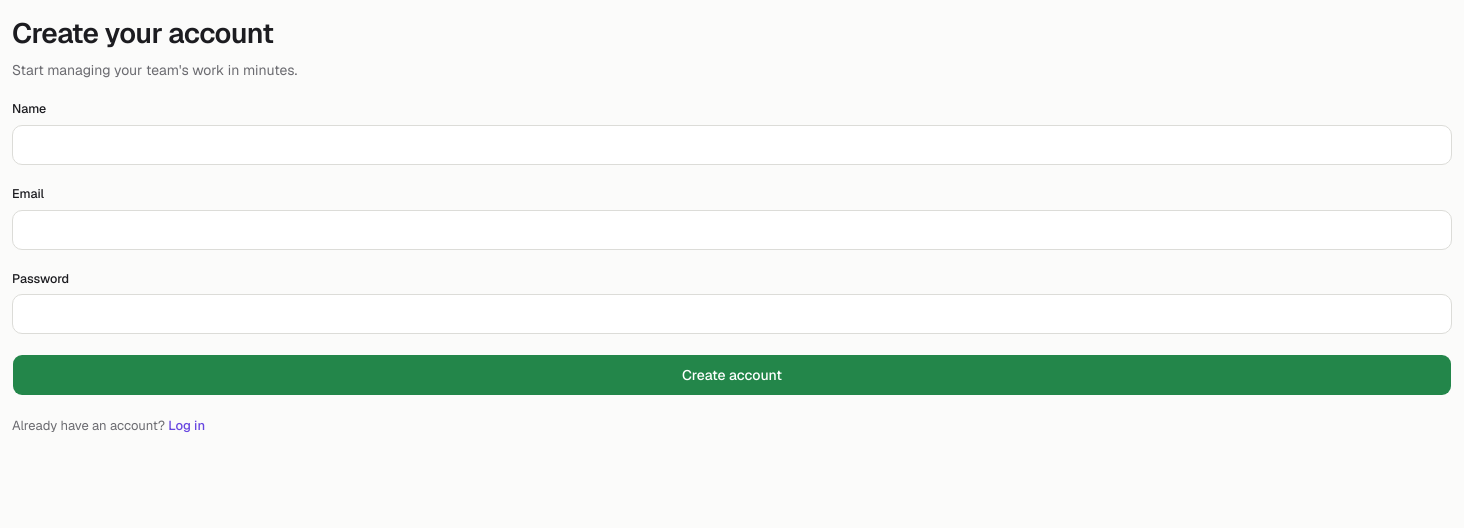
AuthForm › validates register fields before submitting
In the field labelled "Email": coordinates (732, 230) [12, 210, 1452, 250], type "not-an-email"
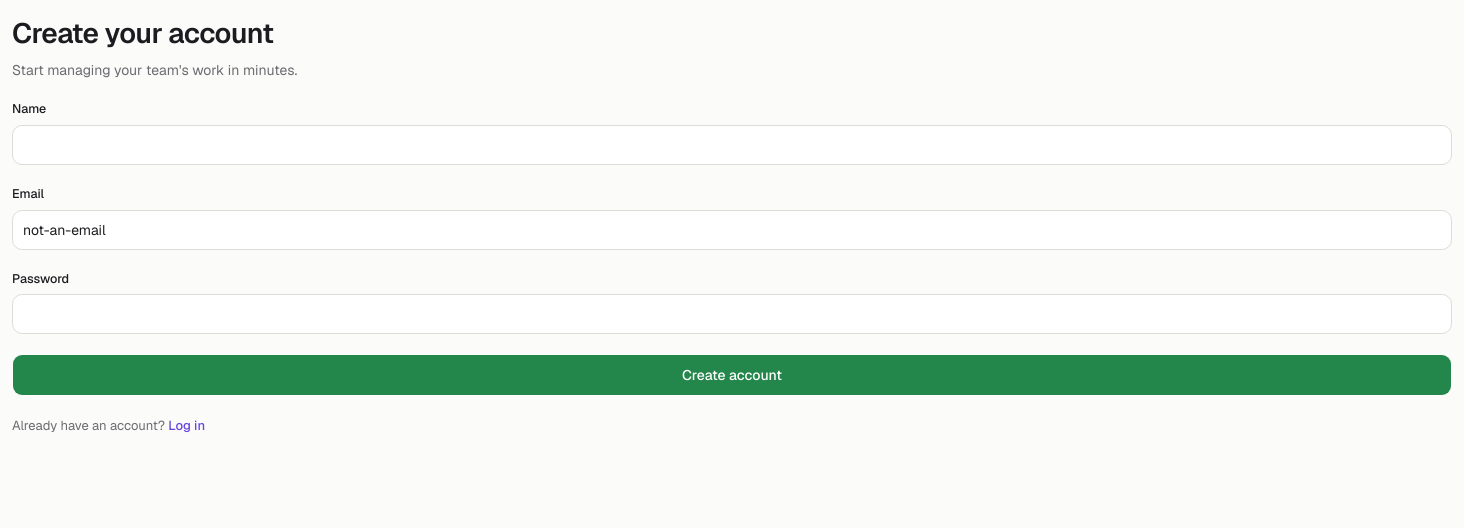
In the password field labelled "Password": coordinates (732, 314) [12, 294, 1452, 334], type "short"
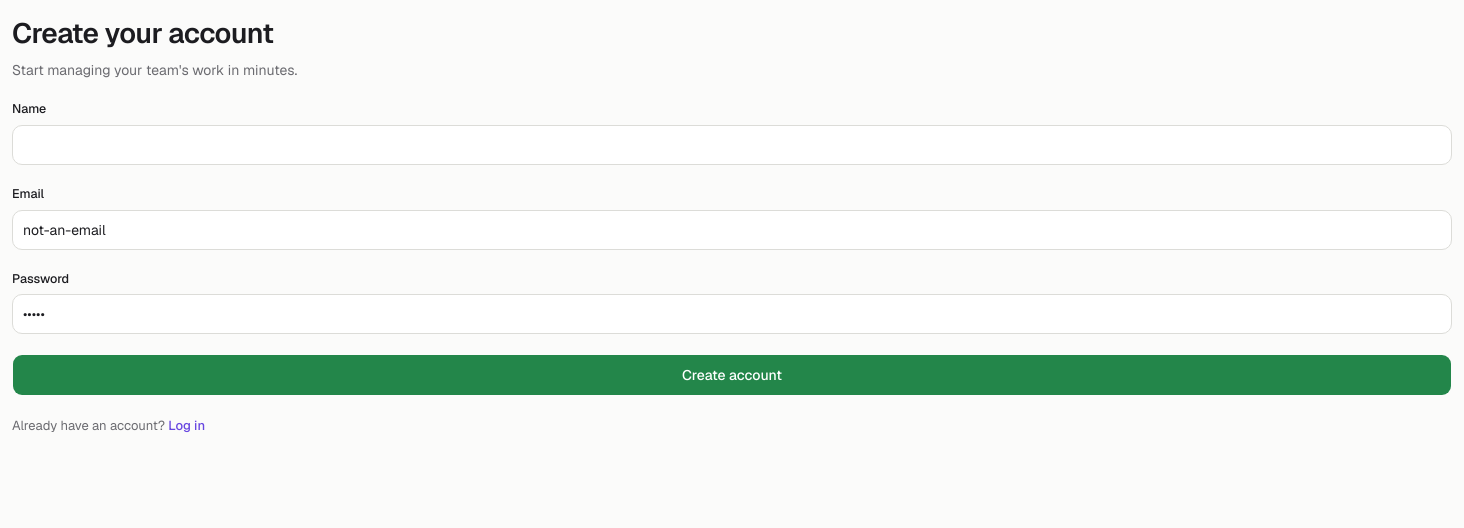
Click the button "Create account": coordinates (732, 375) [12, 354, 1452, 396]
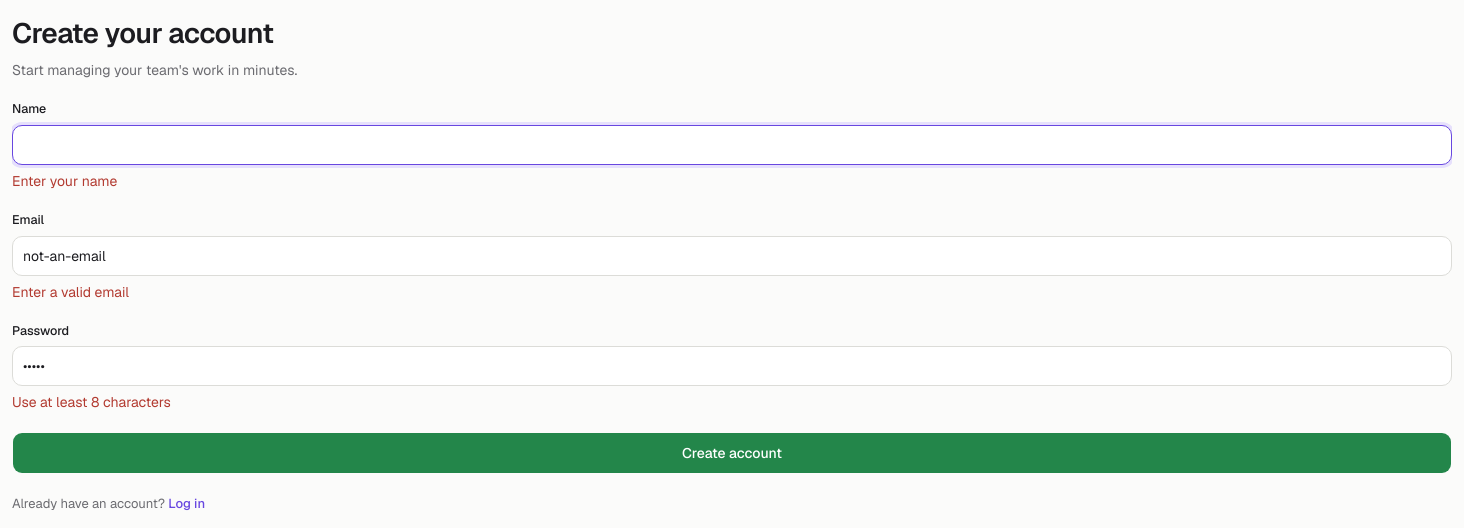
Check: the text "Enter your name" is shown, box [12, 172, 117, 190]
Check: the text "Enter a valid email" is shown, box [12, 282, 129, 300]
Check: the text "Use at least 8 characters" is shown, box [12, 393, 171, 411]
